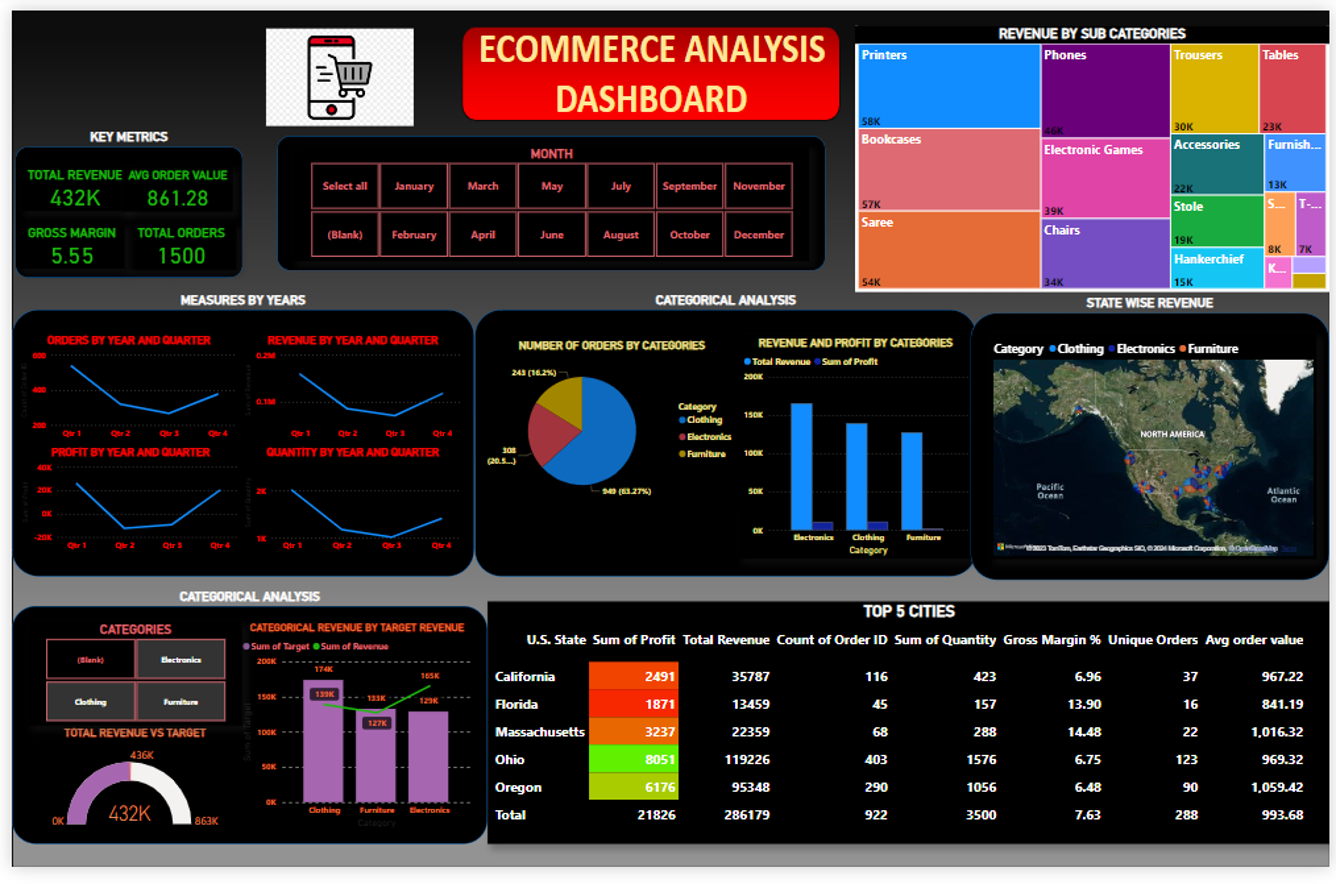

This screenshot's page, from the dashboard's own definition file:
{"tool":"powerbi","page":{"name":"Page 1","canvas":[1280,720],"ordinal":0},"visuals":[{"type":"slicer","title":"MONTH","fields":{"Values":["Order Details.Order Date.Variation.Date Hierarchy.Month"]},"box":[0,85.7,377.1,74.3],"z":0},{"type":"card","title":"TOTAL REVENUE","fields":{"Values":["Measures (2).Total Revenue"]},"box":[0,170.7,161.1,66.1],"z":0,"group":"g5"},{"type":"lineChart","title":"ORDERS BY YEAR AND QUARTER","fields":{"Category":["Order Details.Order Date.Variation.Date Hierarchy.Year","Order Details.Order Date.Variation.Date Hierarchy.Quarter"],"Y":["CountNonNull(Order Details.Order ID)"]},"box":[657.3,392.5,311.5,160.5],"z":0,"group":"g2"},{"type":"lineStackedColumnComboChart","title":"CATEGORICAL REVENUE  BY TARGET REVENUE ","fields":{"Y":["Sum(Table_2.Target)"],"Y2":["Sum(Order Details.Revenue)"],"Category":["Order Details.Category"]},"box":[911.4,84.3,357.1,250],"z":1000,"group":"g4"},{"type":"group","id":"g1","title":"Group 1","box":[0,170.2,328,133.1],"z":1000},{"type":"card","title":"AVG ORDER VALUE","fields":{"Values":["Measures (2).AOV"]},"box":[160.5,170.2,167.4,67.2],"z":1000,"group":"g5"},{"type":"lineChart","title":"PROFIT BY YEAR AND QUARTER","fields":{"Category":["Order Details.Order Date.Variation.Date Hierarchy.Year","Order Details.Order Date.Variation.Date Hierarchy.Quarter"],"Y":["Sum(Order Details.Profit)"]},"box":[658.7,553,311.5,160.5],"z":1000,"group":"g2"},{"type":"gauge","title":"TOTAL REVENUE VS TARGET","fields":{"Y":["Sum(Order Details.Revenue)"],"TargetValue":["Sum(Table_2.Target)"]},"box":[587.1,210,324.3,125.7],"z":2000,"group":"g4"},{"type":"card","title":"TOTAL ORDERS","fields":{"Values":["CountNonNull(Order Details.Order ID)"]},"box":[160.5,236.1,167.4,67.2],"z":2000,"group":"g5"},{"type":"group","id":"g2","title":"Group 3","box":[657.3,392.5,623,322.5],"z":2000},{"type":"lineChart","title":"REVENUE BY YEAR AND QUARTER","fields":{"Category":["Order Details.Order Date.Variation.Date Hierarchy.Year","Order Details.Order Date.Variation.Date Hierarchy.Quarter"],"Y":["Sum(Order Details.Revenue)"]},"box":[968.8,392.5,311.5,160.5],"z":2000,"group":"g2"},{"type":"clusteredColumnChart","title":"REVENUE AND PROFIT BY CATEGORIES","fields":{"Category":["Order Details.Category"],"Y":["Measures (2).Total Revenue","Sum(Order Details.Profit)"]},"box":[352.7,393.8,306,319.7],"z":2000,"group":"g3"},{"type":"card","title":"GROSS MARGIN","fields":{"Values":["Measures (2).Gross Margin %"]},"box":[0,236.8,161.1,66.1],"z":3000,"group":"g5"},{"type":"group","id":"g3","title":"Group 4","box":[0,393.8,658.7,319.7],"z":3000},{"type":"pieChart","title":"NUMBER OF ORDERS BY CATEGORIES","fields":{"Category":["Order Details.Category"],"Y":["CountNonNull(Order Details.Order ID)"]},"box":[0,393.8,352.7,167.4],"z":3000,"group":"g3"},{"type":"lineChart","title":"QUANTITY BY YEAR AND QUARTER","fields":{"Category":["Order Details.Order Date.Variation.Date Hierarchy.Year","Order Details.Order Date.Variation.Date Hierarchy.Quarter"],"Y":["Sum(Order Details.Quantity)"]},"box":[968.8,553,311.5,161.9],"z":3000,"group":"g2"},{"type":"group","id":"g4","title":"Group 5","box":[587.1,84.3,681.4,251.4],"z":4000},{"type":"slicer","title":"MONTH","fields":{"Values":["Order Details.Category"]},"box":[587.1,84.3,324.3,125.7],"z":5001,"group":"g4"},{"type":"group","id":"g5","title":"Group 2","box":[0,170.2,328,133.1],"z":11002,"group":"g1"}]}

Visuals, with their boxes on the page's 1280x720 design canvas (x1, y1, x2, y2). These are canvas units, not pixel positions in the 1336x884 screenshot, which may show the page scaled, cropped or inside an application window:
"MONTH" slicer: (left=0, top=86, right=377, bottom=160)
"TOTAL REVENUE" card: (left=0, top=171, right=161, bottom=237)
"ORDERS BY YEAR AND QUARTER" lineChart: (left=657, top=392, right=969, bottom=553)
"CATEGORICAL REVENUE  BY TARGET REVENUE " lineStackedColumnComboChart: (left=911, top=84, right=1268, bottom=334)
"Group 1" group: (left=0, top=170, right=328, bottom=303)
"AVG ORDER VALUE" card: (left=160, top=170, right=328, bottom=237)
"PROFIT BY YEAR AND QUARTER" lineChart: (left=659, top=553, right=970, bottom=714)
"TOTAL REVENUE VS TARGET" gauge: (left=587, top=210, right=911, bottom=336)
"TOTAL ORDERS" card: (left=160, top=236, right=328, bottom=303)
"Group 3" group: (left=657, top=392, right=1280, bottom=715)
"REVENUE BY YEAR AND QUARTER" lineChart: (left=969, top=392, right=1280, bottom=553)
"REVENUE AND PROFIT BY CATEGORIES" clusteredColumnChart: (left=353, top=394, right=659, bottom=714)
"GROSS MARGIN" card: (left=0, top=237, right=161, bottom=303)
"Group 4" group: (left=0, top=394, right=659, bottom=714)
"NUMBER OF ORDERS BY CATEGORIES" pieChart: (left=0, top=394, right=353, bottom=561)
"QUANTITY BY YEAR AND QUARTER" lineChart: (left=969, top=553, right=1280, bottom=715)
"Group 5" group: (left=587, top=84, right=1268, bottom=336)
"MONTH" slicer: (left=587, top=84, right=911, bottom=210)
"Group 2" group: (left=0, top=170, right=328, bottom=303)
